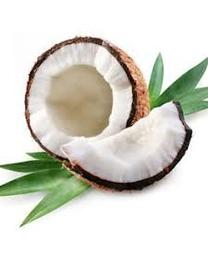coconut: (23, 35, 150, 164), (56, 99, 193, 192)
